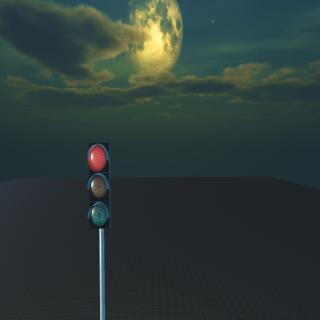sinalRed: (83, 140, 118, 233)
